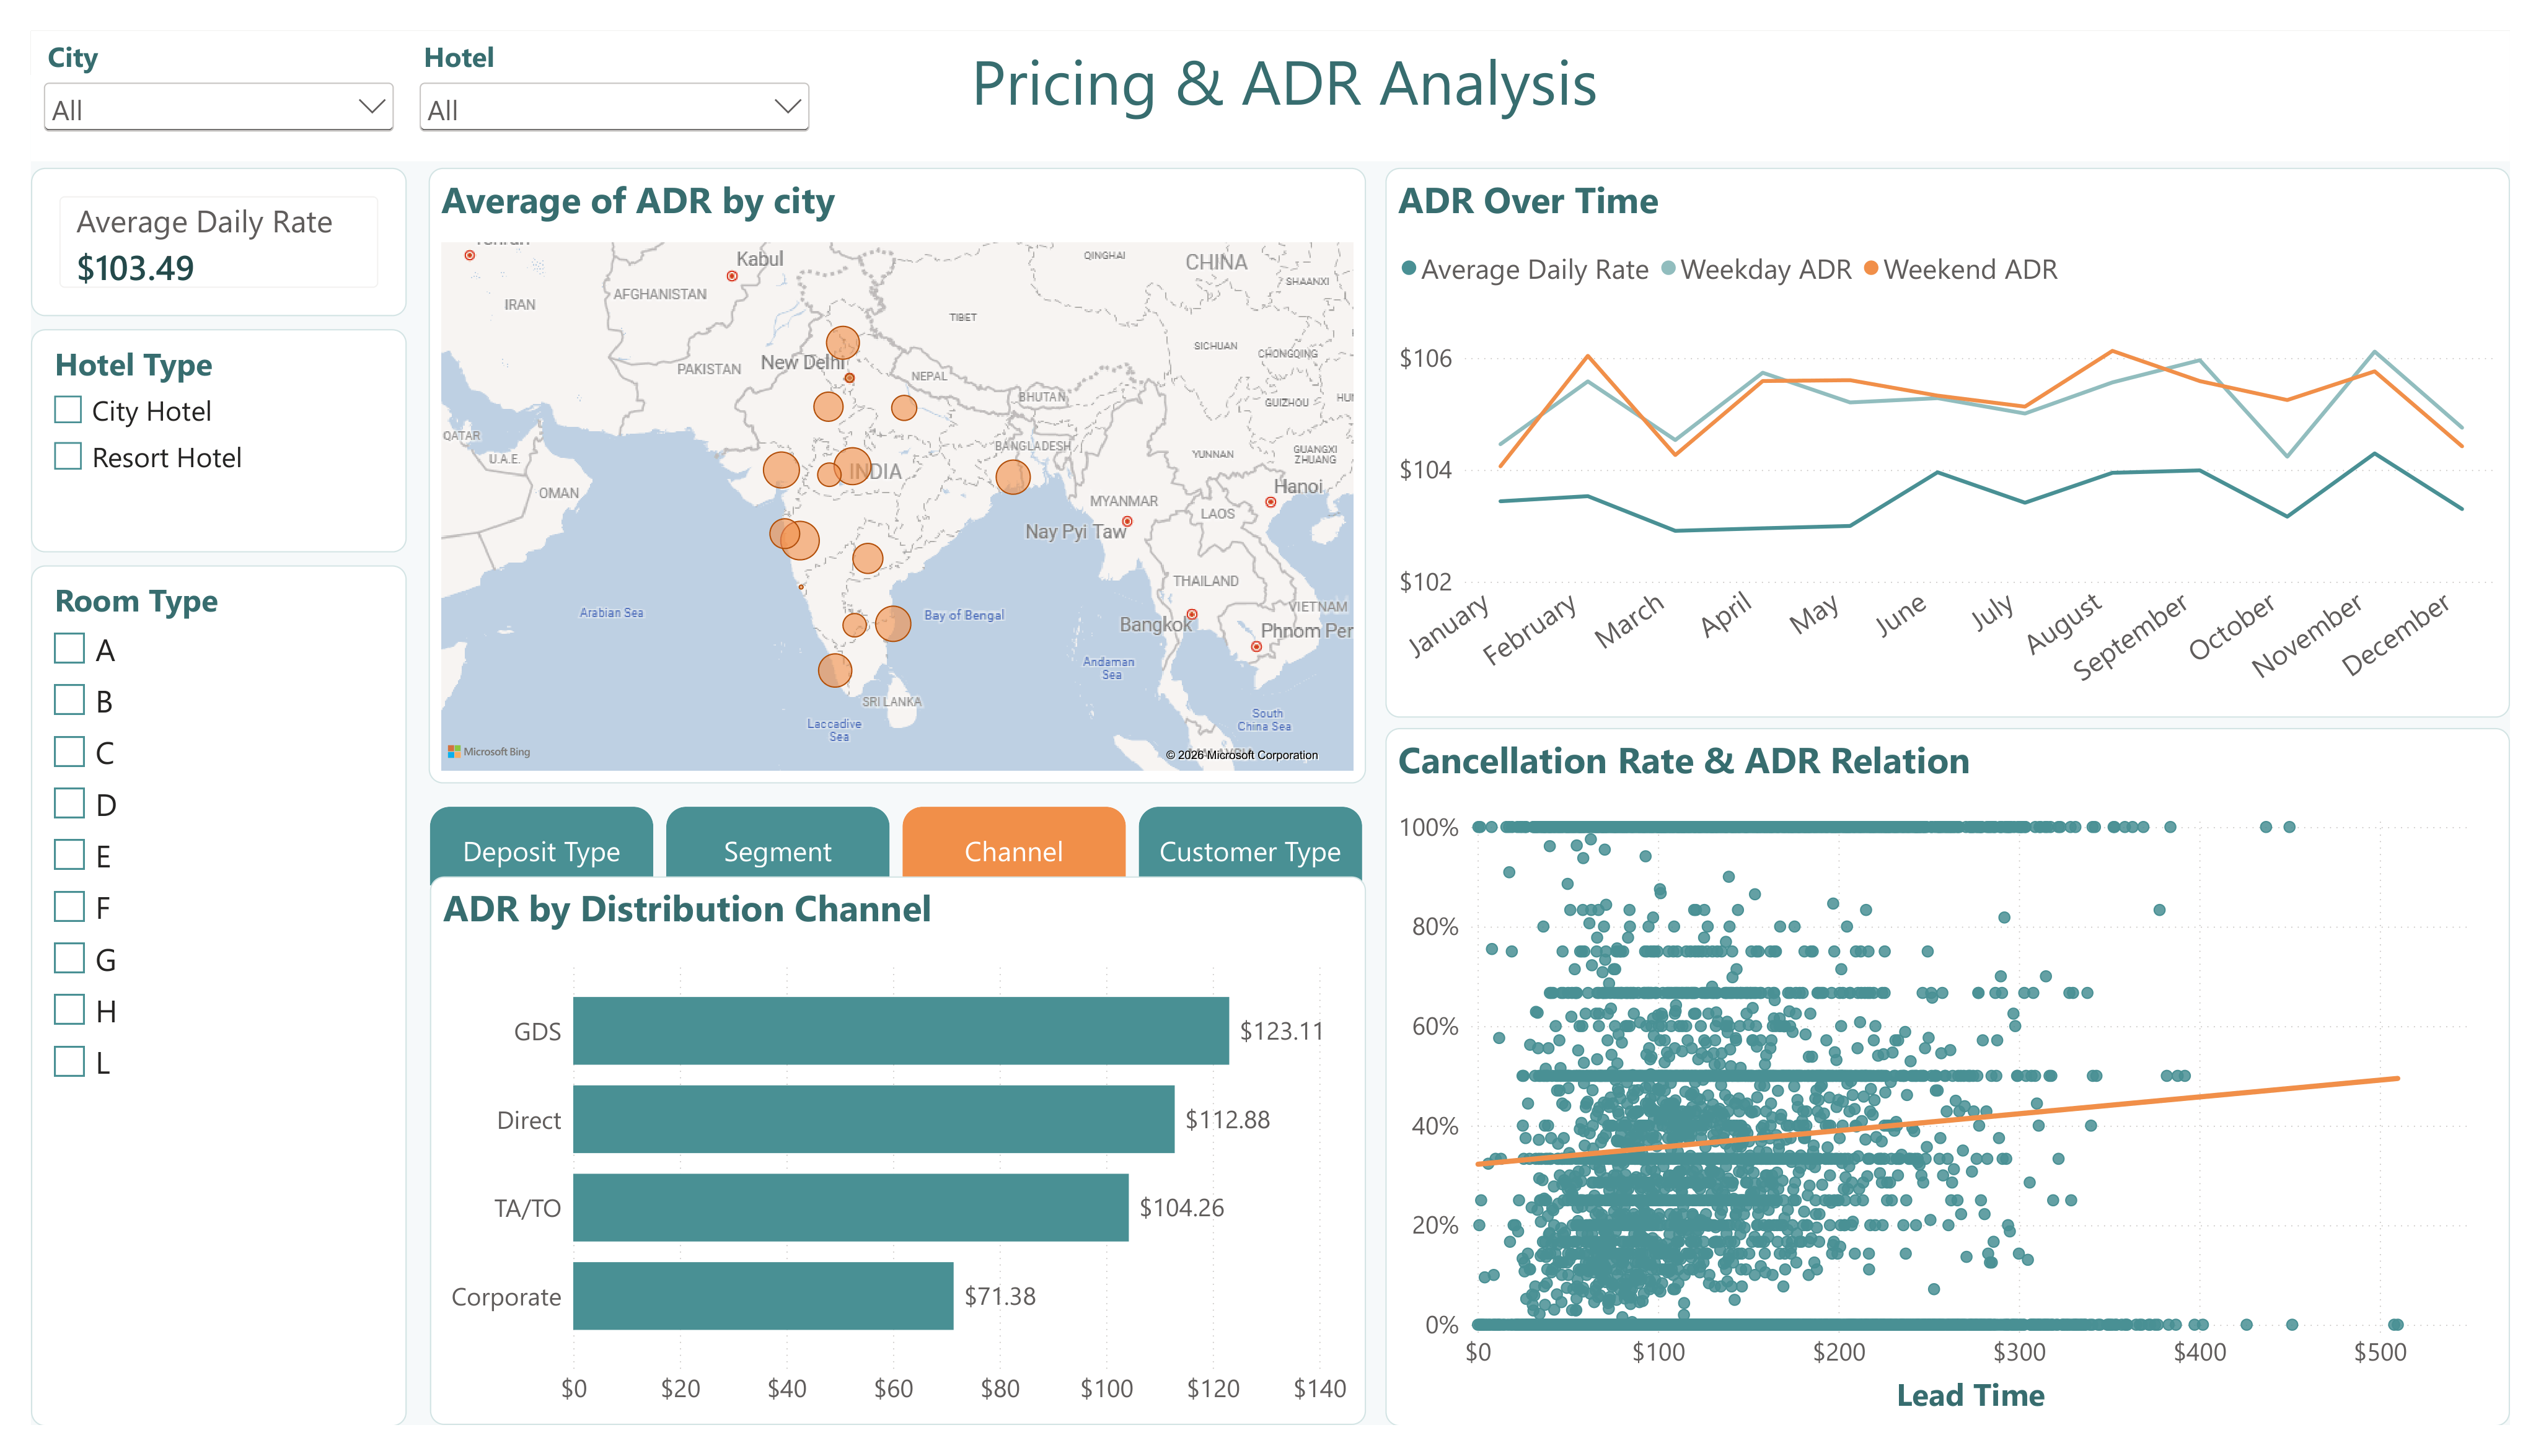

The dashboard page shown, as its layout file describes it:
{"tool":"powerbi","page":{"name":"Pricing & ADR Analysis","canvas":[1920,1080],"ordinal":3},"visuals":[{"type":"textbox","box":[0,0,1920,101.4],"z":4000},{"type":"slicer","fields":{"Values":["hotel bookings 2024.hotel"]},"box":[290.7,0,322,80.5],"z":5000},{"type":"slicer","fields":{"Values":["hotel bookings 2024.city"]},"box":[0,0,290.7,80.5],"z":6000},{"type":"cardVisual","fields":{"Data":["_Mesures.Average Daily Rate"]},"box":[0,106.3,291.4,114.9],"z":7000},{"type":"lineChart","title":"ADR Over Time","fields":{"Category":["DateTable.Date.Variation.Date Hierarchy.Quarter","DateTable.Date.Variation.Date Hierarchy.Month","DateTable.Date.Variation.Date Hierarchy.Day"],"Y":["_Mesures.Average Daily Rate","_Mesures.Weekday ADR","_Mesures.Weekend ADR"]},"box":[1048.9,106.4,871.1,425.6],"z":8000},{"type":"slicer","fields":{"Values":["hotel bookings 2024.Hotel Type"]},"box":[0,231.1,290.7,172.9],"z":9000},{"type":"slicer","fields":{"Values":["hotel bookings 2024.reserved_room_type"]},"box":[0,414.4,290.7,666.3],"z":10000},{"type":"scatterChart","title":"Cancellation Rate & ADR Relation","fields":{"X":["hotel bookings 2024.adr"],"Y":["_Mesures.Cancellation Rate"]},"box":[1048.9,540.3,871.1,540.3],"z":11000},{"type":"bookmarkNavigator","box":[309,601,725,61],"z":11500},{"type":"clusteredBarChart","title":"ADR by Distribution Channel","fields":{"Category":["hotel bookings 2024.distribution_channel"],"Y":["_Mesures.Average Daily Rate"]},"box":[308.8,655,725,425],"z":13000},{"type":"map","title":"Average of ADR by city","fields":{"Category":["hotel bookings 2024.city"],"Size":["Avg(hotel bookings 2024.adr)"]},"box":[307.5,106.4,726.4,477.1],"z":16000}]}

Visuals, with their boxes on the page's 1920x1080 design canvas (x1, y1, x2, y2). These are canvas units, not pixel positions in the 2541x1456 screenshot, which may show the page scaled, cropped or inside an application window:
textbox: <box>0,0,1920,101</box>
slicer - hotel bookings 2024.hotel: <box>291,0,613,80</box>
slicer - hotel bookings 2024.city: <box>0,0,291,80</box>
cardVisual - _Mesures.Average Daily Rate: <box>0,106,291,221</box>
"ADR Over Time" lineChart: <box>1049,106,1920,532</box>
slicer - hotel bookings 2024.Hotel Type: <box>0,231,291,404</box>
slicer - hotel bookings 2024.reserved_room_type: <box>0,414,291,1081</box>
"Cancellation Rate & ADR Relation" scatterChart: <box>1049,540,1920,1081</box>
bookmarkNavigator: <box>309,601,1034,662</box>
"ADR by Distribution Channel" clusteredBarChart: <box>309,655,1034,1080</box>
"Average of ADR by city" map: <box>308,106,1034,584</box>
